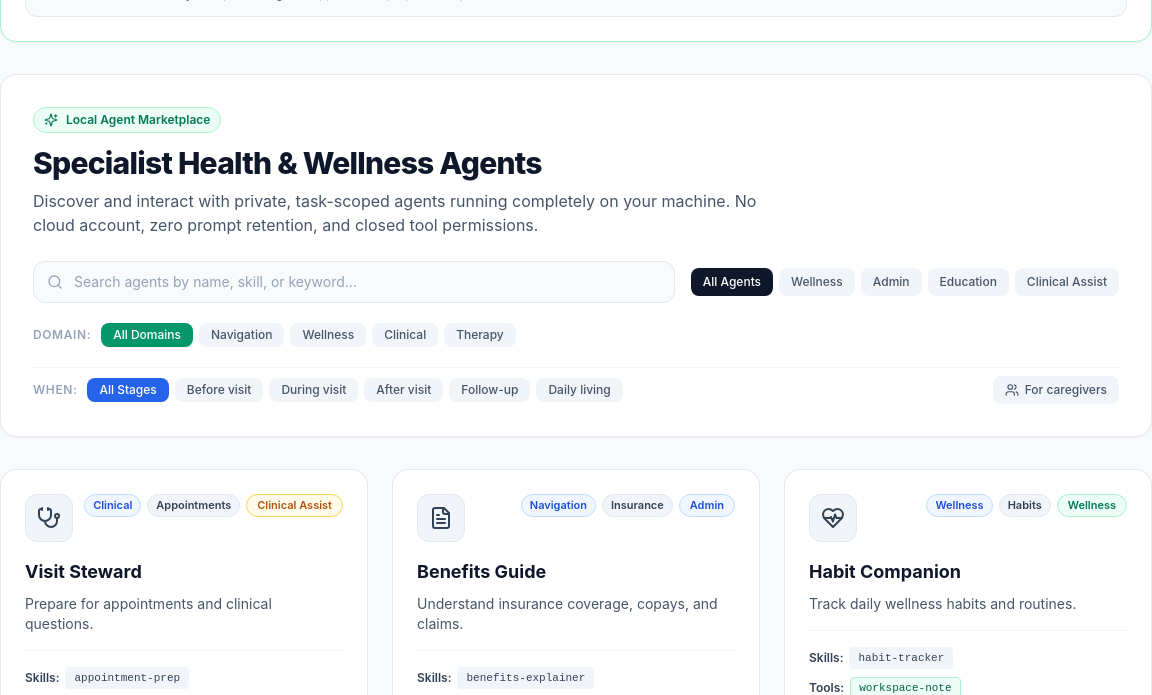
Test: Adversarial Stress Suite: Marketplace UI & Icon Resolution › 2. Domain Filtering & Multi-Filter Combinations › verifies 0-agent domain pills are hidden and renders empty state on conflicting multi-facet filters
(page scrolled)
Note: Conflicting filters produce empty state: Therapy domain + Admin risk
Click the button "Therapy".
click(480, 335)  # box [444, 323, 516, 347]
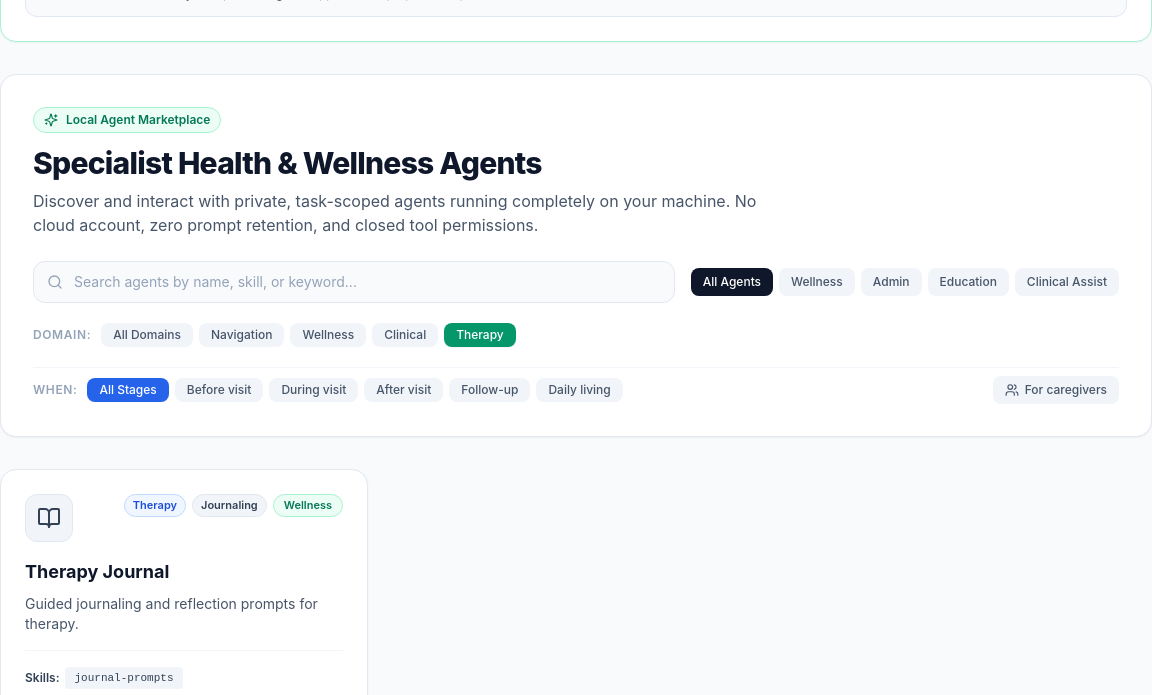
Click the button "Admin".
click(891, 282)  # box [861, 268, 922, 296]
(page scrolled)
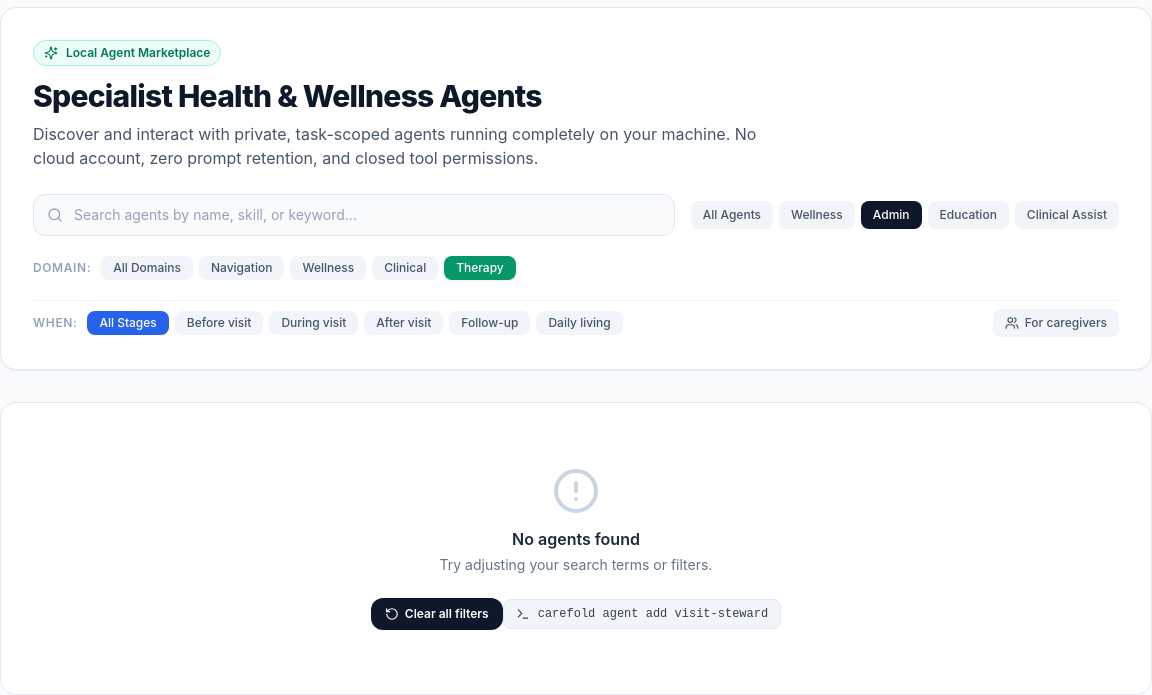
Now the heading "No agents found" is shown, box [512, 529, 640, 549]
Now the text "Try adjusting your search terms or filters." is shown, box [440, 556, 712, 573]
Now the text "carefold agent add visit-steward" is shown, box [538, 606, 768, 622]
